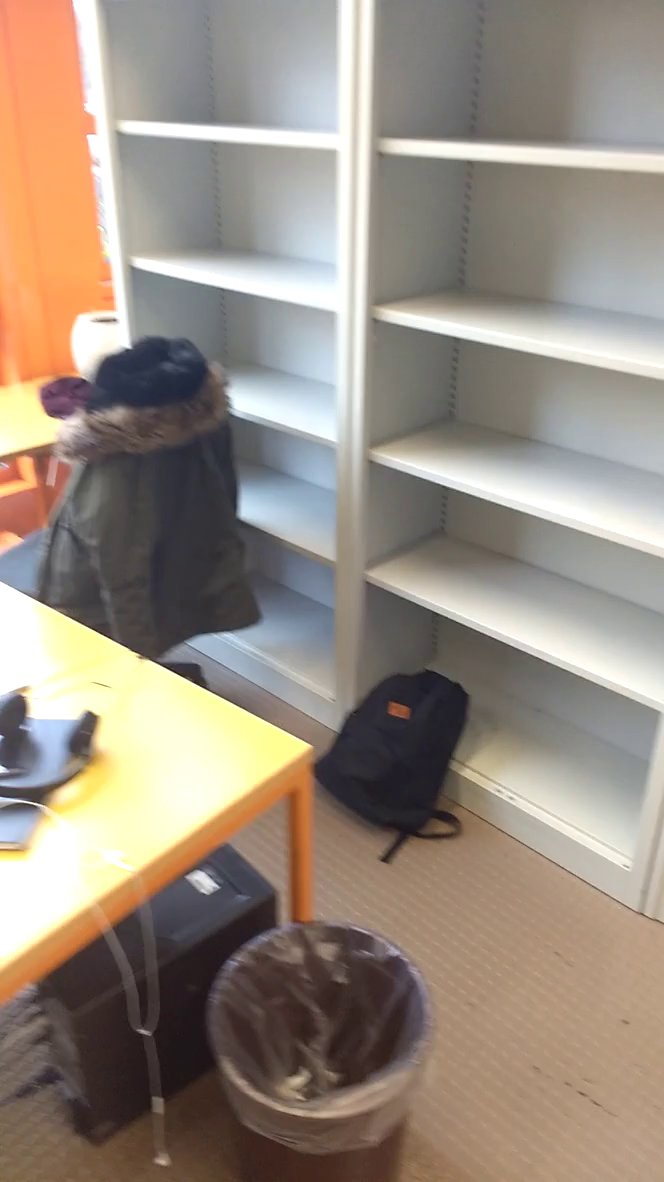bag: (304, 657, 482, 859)
bin: (196, 907, 445, 1182)
